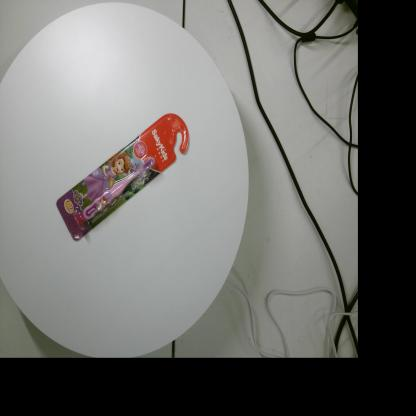Personal Hygiene: (56, 113, 189, 241)
